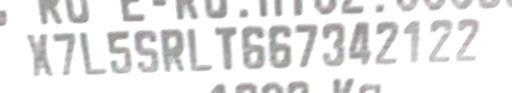letter: (22, 27, 56, 80), (182, 25, 216, 76), (101, 26, 135, 77), (76, 29, 110, 80), (208, 22, 240, 73), (156, 24, 186, 77), (132, 25, 162, 78), (344, 18, 374, 69), (319, 19, 349, 70), (453, 15, 483, 64), (425, 16, 455, 65), (371, 17, 401, 66), (290, 20, 320, 69), (240, 21, 268, 72), (266, 20, 294, 69), (50, 29, 78, 78), (399, 14, 425, 63)
